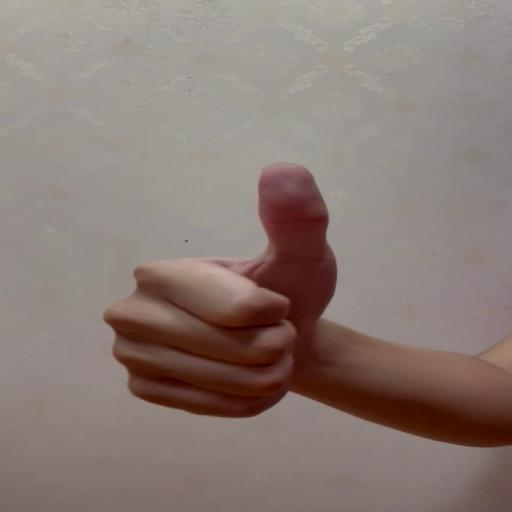thumbs_up: (101, 158, 338, 419)
